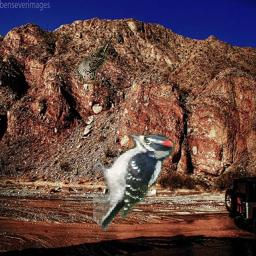Sparrow: (75, 38, 111, 84)
Woodpecker: (93, 131, 175, 232)
